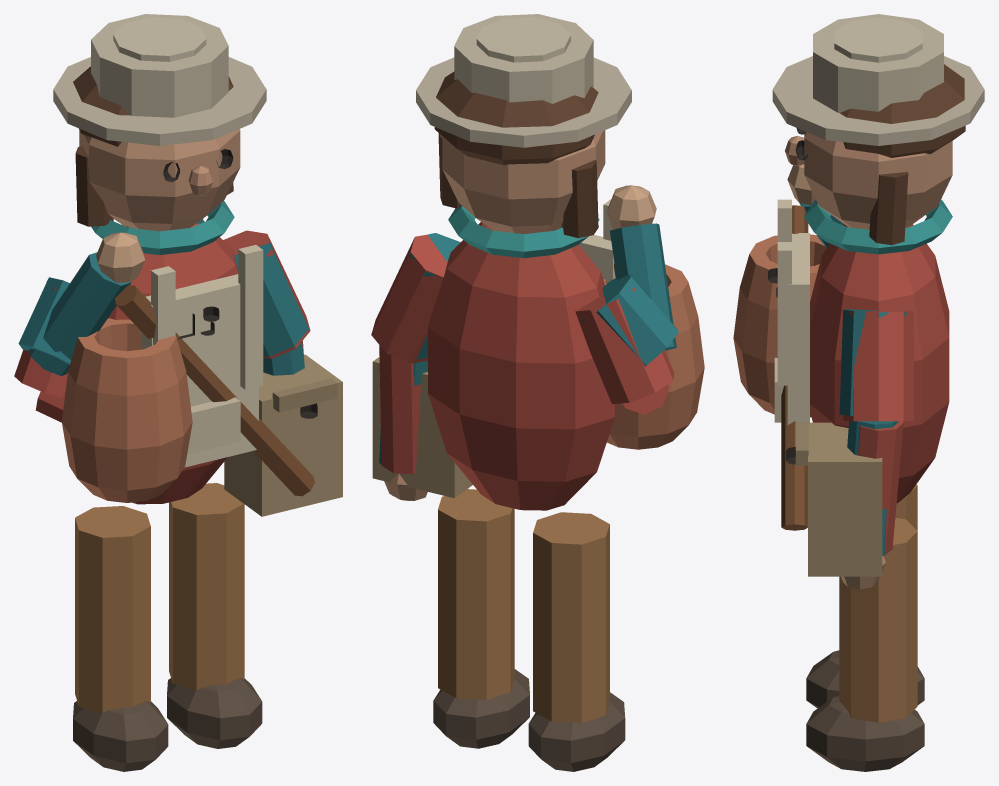
Rendered from world04-residents-v1.glb.
3 renders of one model, left to right at view 1: azimuth 30°, elevation 25°; view 2: azimuth 150°, elevation 25°; view 3: azimuth 270°, elevation 25°, orthographic.
Visible parts, largest first — view 1: resident-potter-mesh, resident-porter-mesh; view 2: resident-potter-mesh, resident-porter-mesh; view 3: resident-potter-mesh, resident-porter-mesh.
Boxes of the visible parts, x1,y1,x2,y2 form: resident-potter-mesh: [14, 66, 310, 771]; resident-porter-mesh: [18, 14, 342, 516]; resident-potter-mesh: [371, 71, 704, 771]; resident-porter-mesh: [372, 14, 678, 498]; resident-potter-mesh: [733, 64, 965, 771]; resident-porter-mesh: [772, 14, 984, 589].
Bounding box in the file's own units: 0.896 × 2.1 × 0.675.
